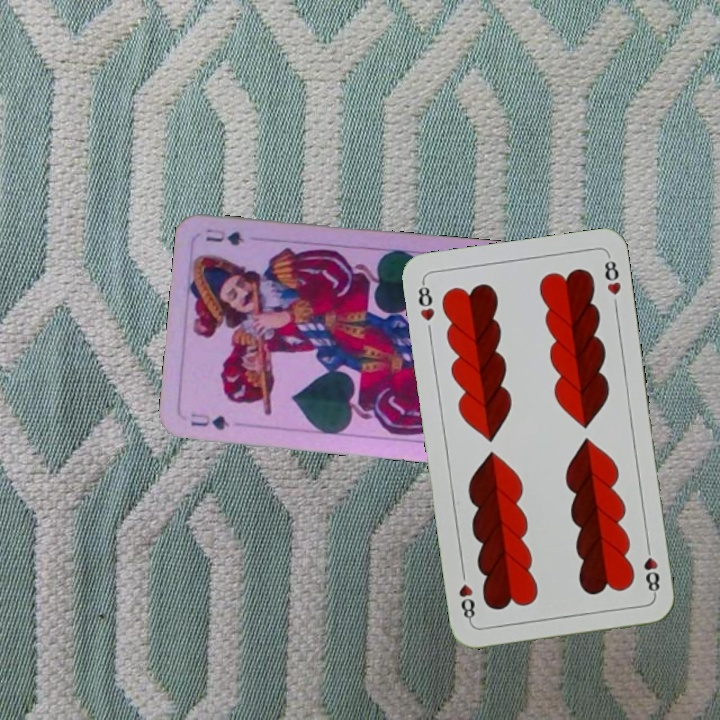GU: (186, 409, 233, 433)
H8: (639, 539, 662, 598), (414, 278, 437, 324)
